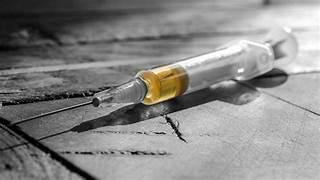Syringe: (92, 28, 296, 105)
